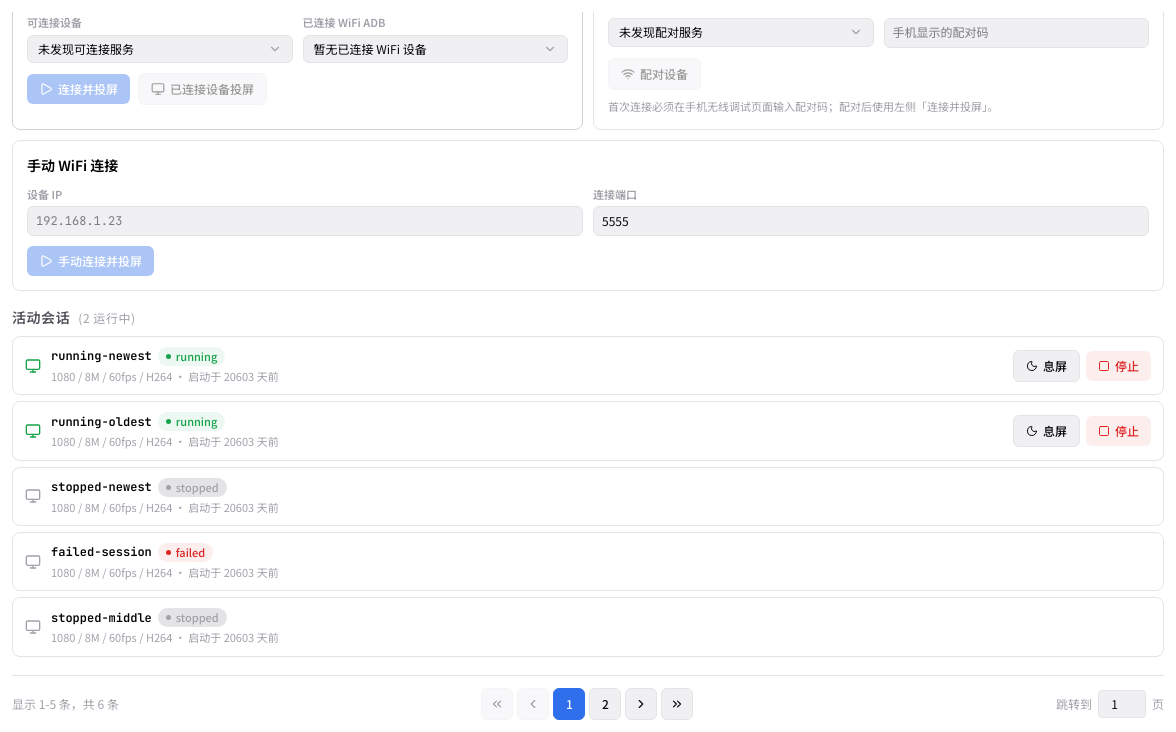
MirrorPage sessions › shows running sessions first and paginates the session history
The width and height of the screenshot is (1176, 732).
(page scrolled)
Expected: the number of elements with test id "mirror-session-row" is 5, 12,336 -> 1164,395; 12,401 -> 1164,461; 12,467 -> 1164,526; 12,532 -> 1164,591; 12,597 -> 1164,657
Expected: the text "running-newest" is shown, 51,347 -> 152,365
Click the button "2" at {"x": 605, "y": 704}, box 589,688 -> 621,720
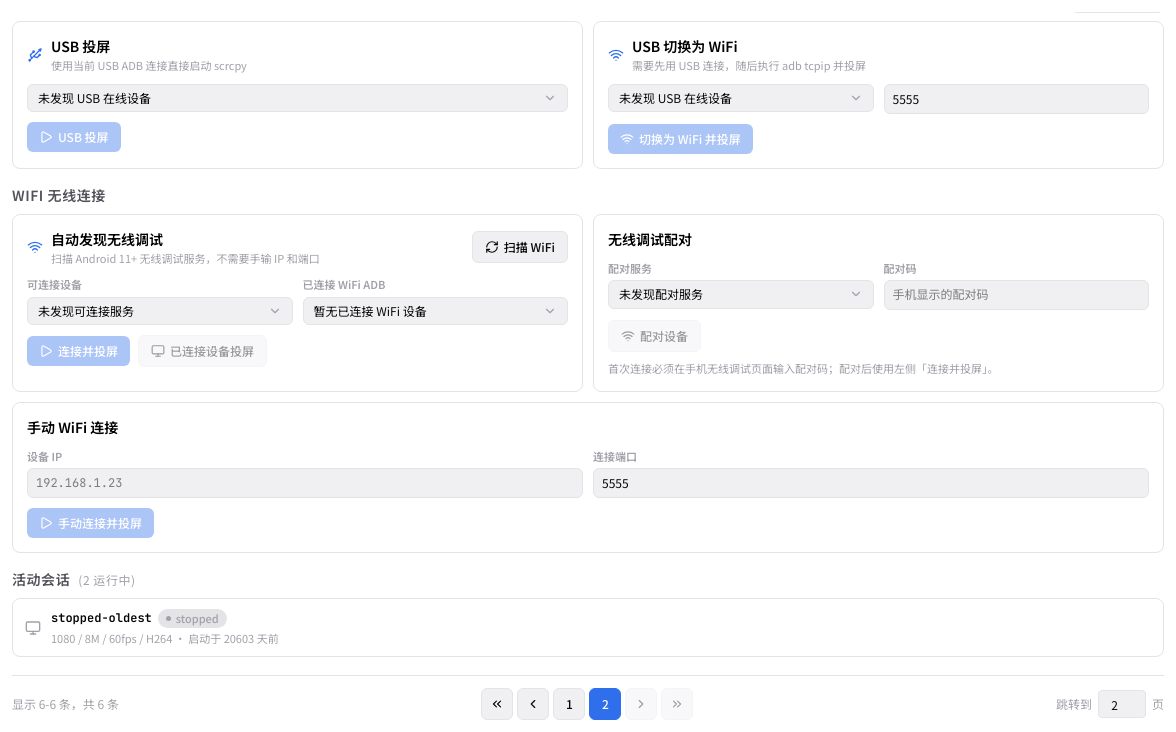
Now the text "stopped-oldest" is shown, box 51,609 -> 152,627
Now the text "running-newest" is gone
